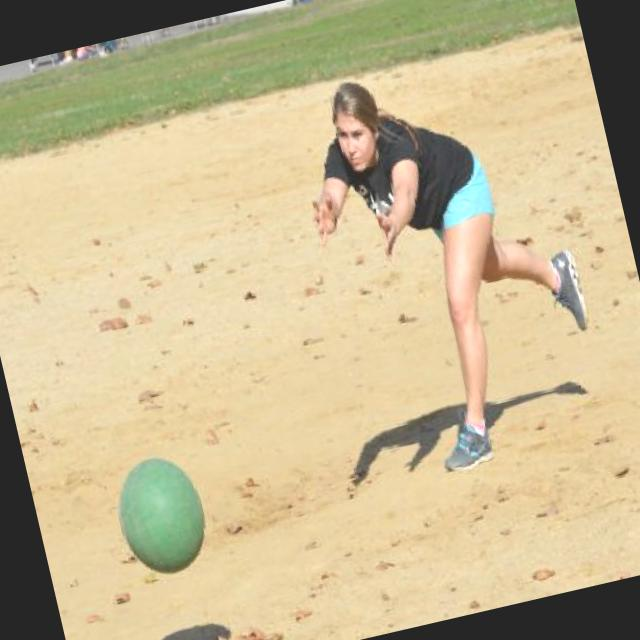Person: (316, 56, 598, 478)
